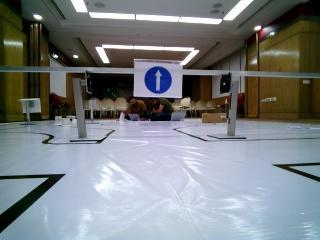straight: (132, 58, 183, 99)
